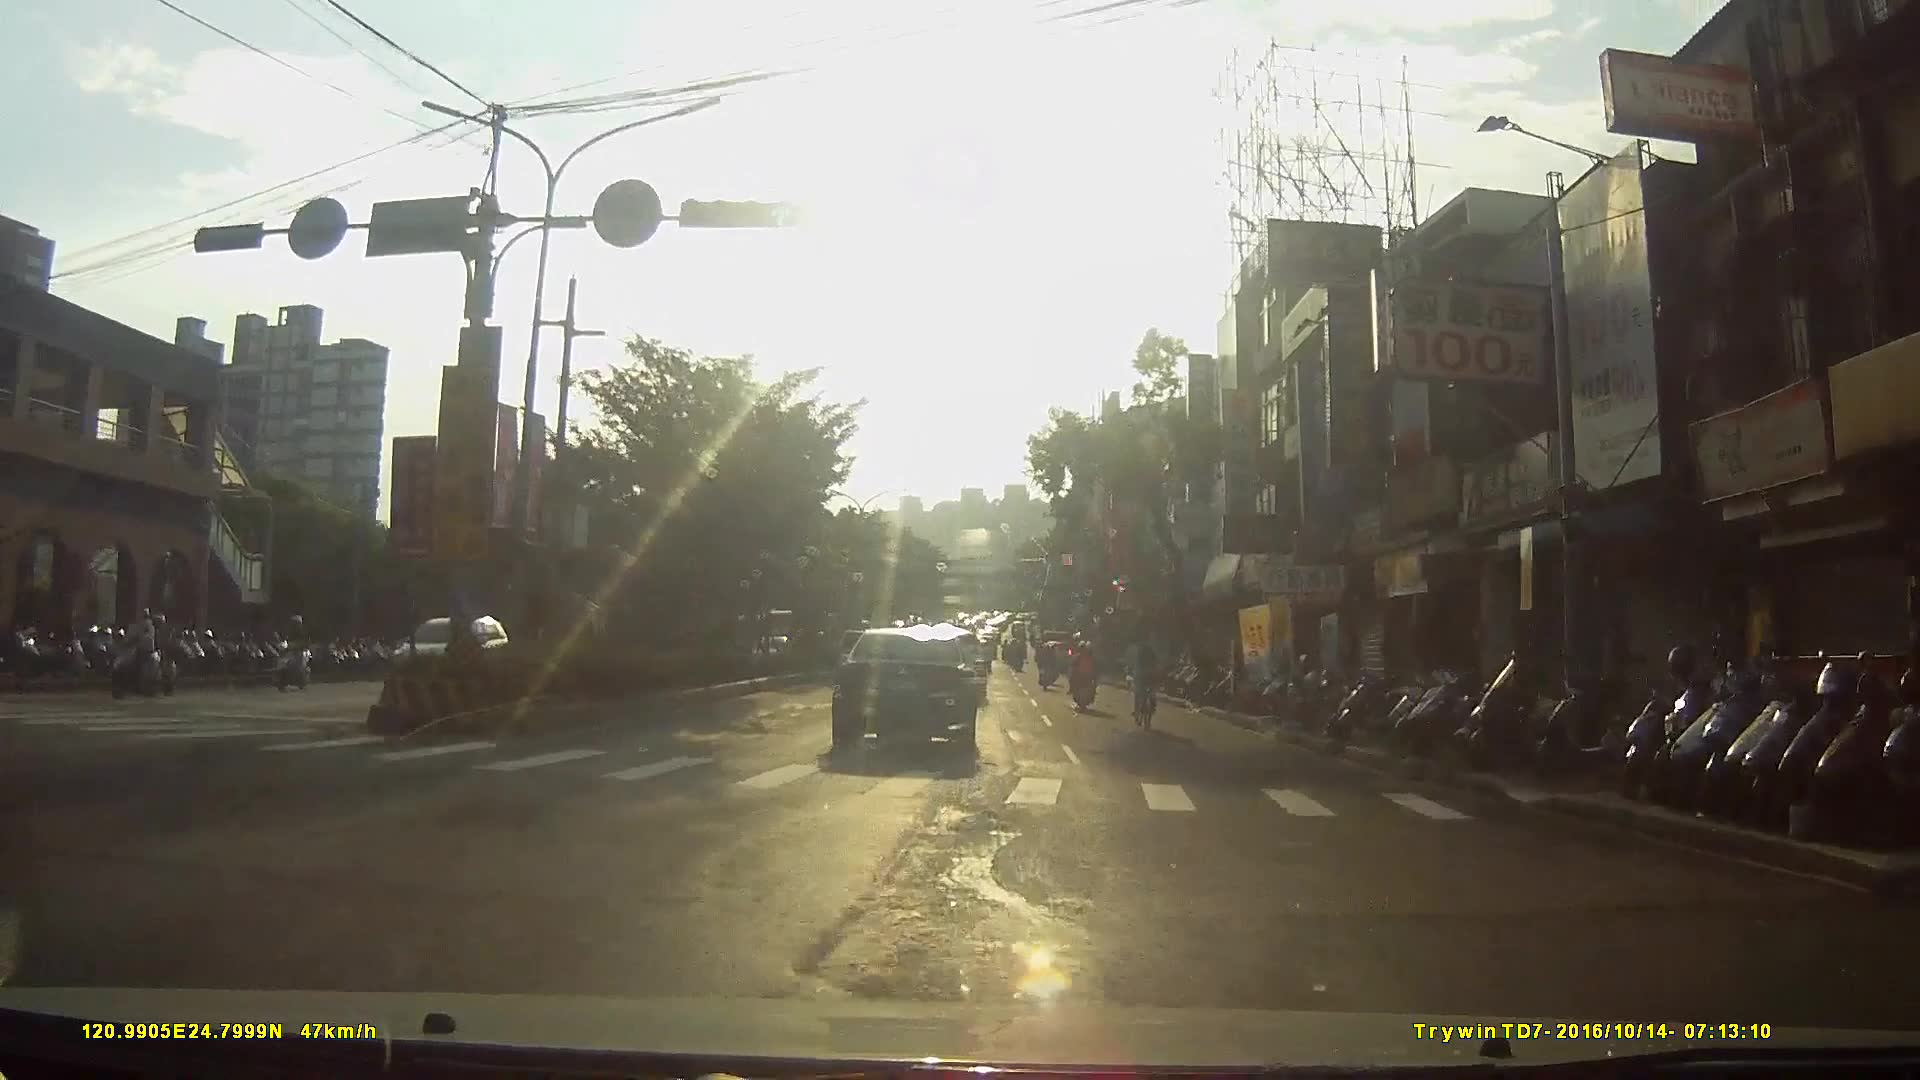rider: (104, 600, 173, 692), (1126, 618, 1167, 718), (277, 614, 315, 691), (1072, 639, 1100, 713), (1034, 639, 1060, 694)
vehicle: (835, 609, 992, 754)
